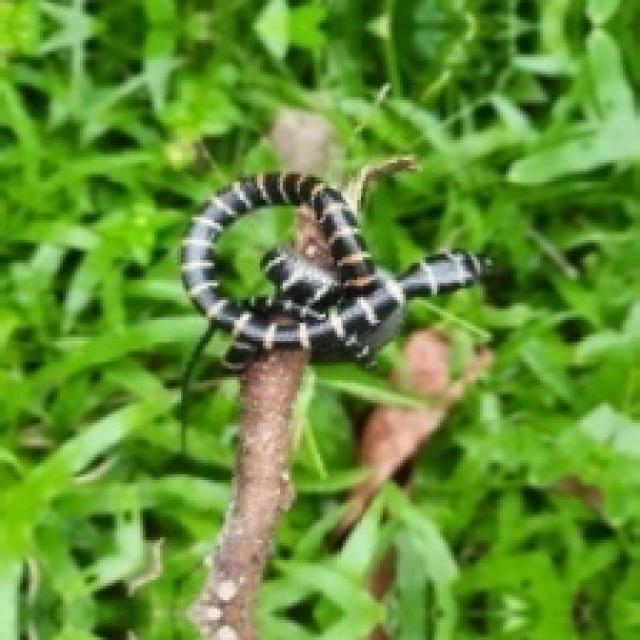paradise tree snake: (183, 171, 483, 369)
